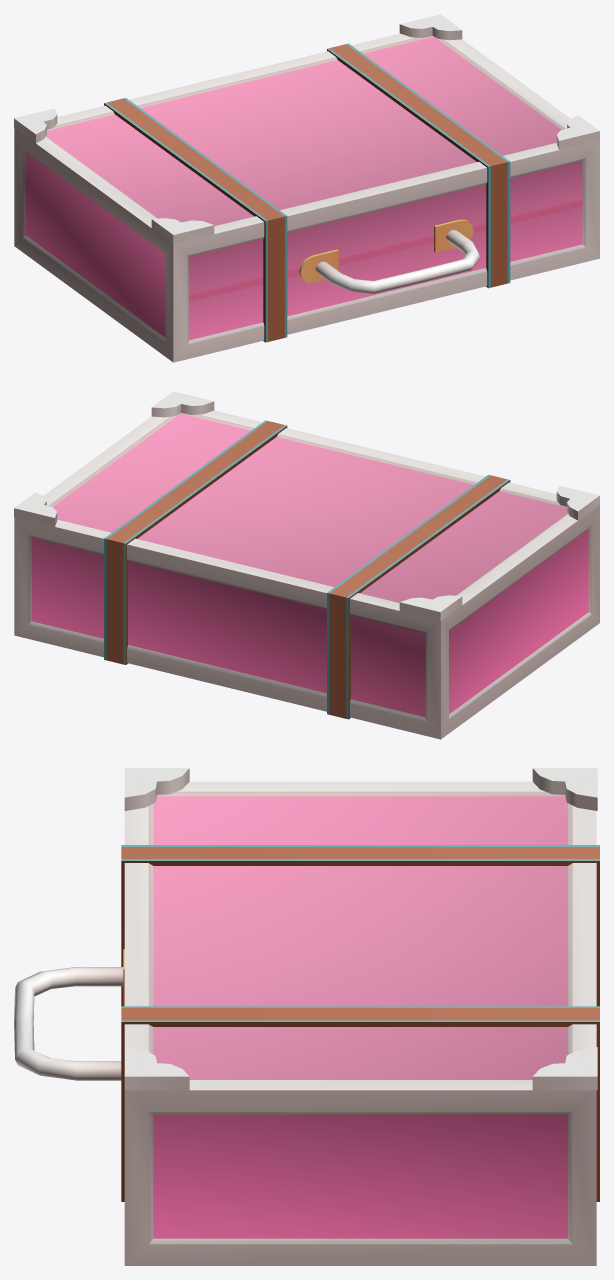
Rendered from Doll_OB_Bag_002.fbx.
The picture shows the model from 3 angles, top to bottom: view 1: azimuth 30°, elevation 25°; view 2: azimuth 150°, elevation 25°; view 3: azimuth 270°, elevation 25°; orthographic projection. The views are drawn at different scales.
Visible parts, largest first — view 1: Doll_OB_Bag_002; view 2: Doll_OB_Bag_002; view 3: Doll_OB_Bag_002.
Part boxes in pixels (box(x1,y1,x2,y2)): Doll_OB_Bag_002: box(14, 14, 599, 362); Doll_OB_Bag_002: box(14, 391, 599, 739); Doll_OB_Bag_002: box(14, 768, 599, 1265).
Size of the model in its own units: 54.35 by 15.7 by 43.61.
Materials: 1 (1 with a texture image).
